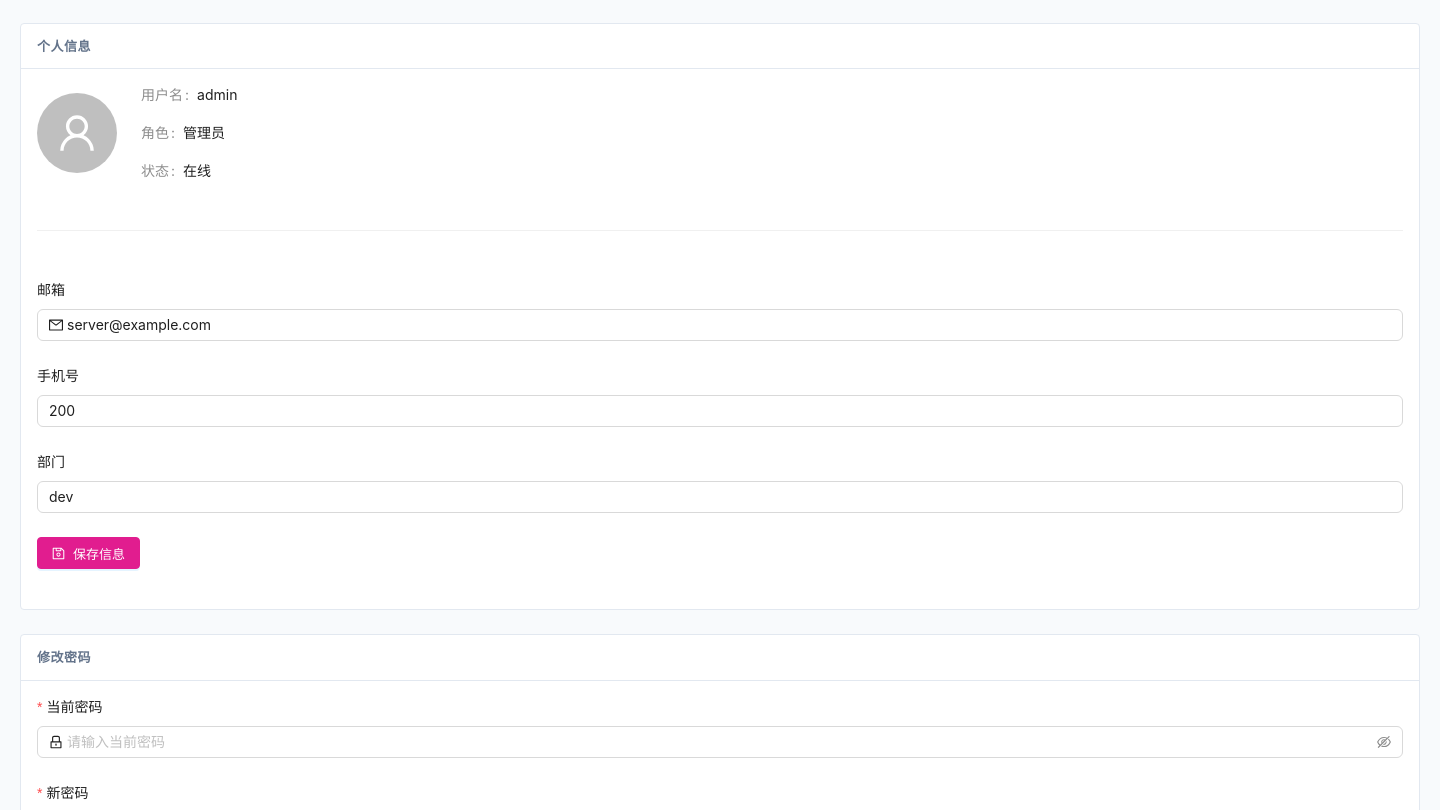
Test: Profile › 邮箱格式校验
expect the field with placeholder "请输入手机号" holds "200": met, box [37,395,1403,427]
Replace the text in the field with placeholder "请输入邮箱" with "bad" at (729, 325), box [67,314,1391,336]
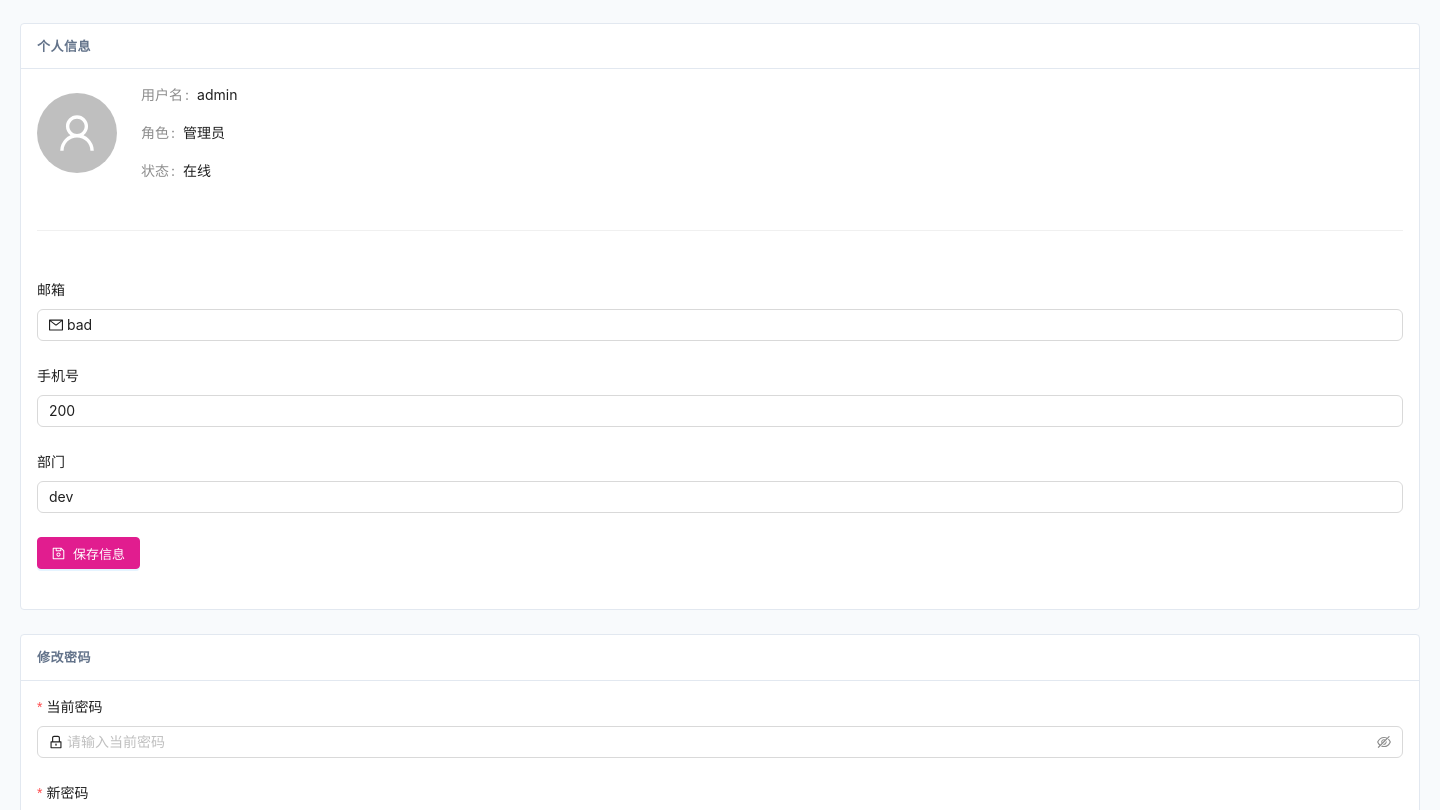
Click the button "保存信息" at (88, 553), box [37,537,140,569]
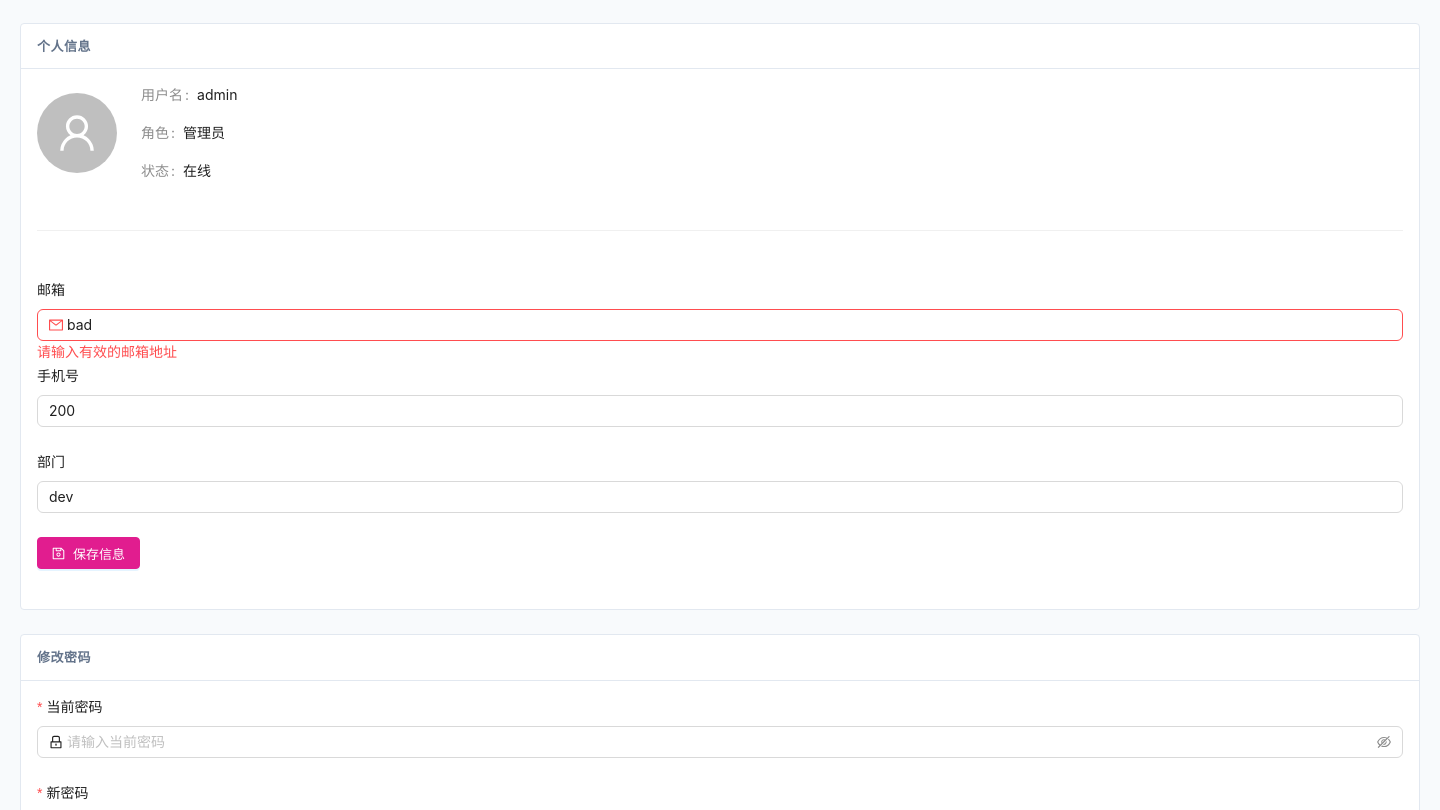
expect the text "请输入有效的邮箱地址" is shown: met, box [37,343,177,360]
